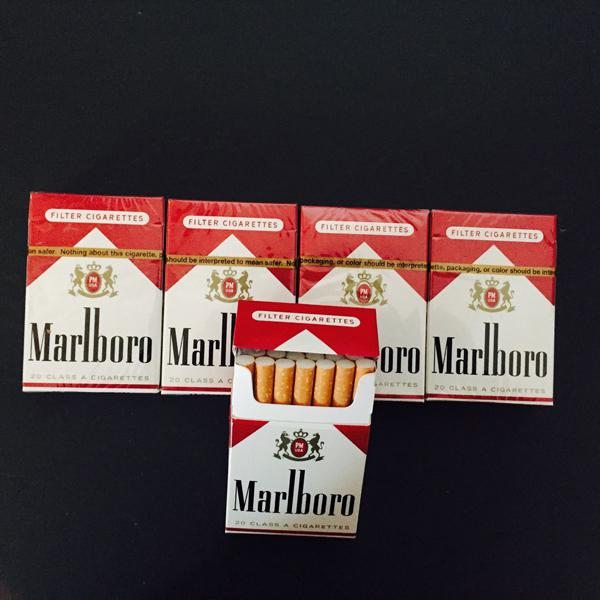marlboro_red: (22, 194, 163, 391), (167, 204, 297, 394), (301, 207, 424, 401), (431, 211, 552, 397), (229, 384, 362, 537)
